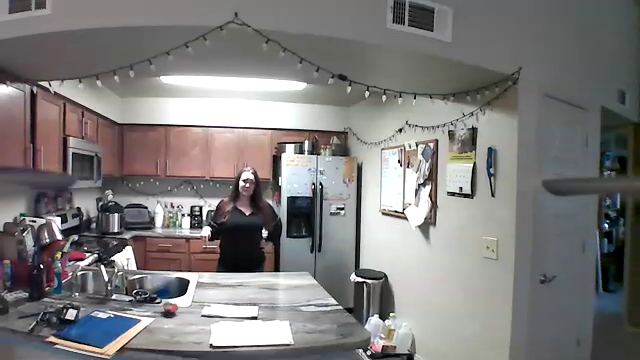down: (197, 222, 214, 246)
